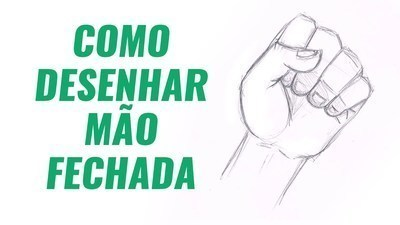closedhandfront: (229, 10, 382, 185)
